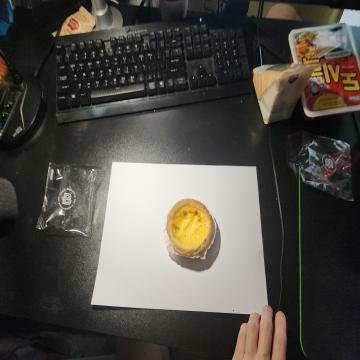EggTart: (166, 197, 214, 257)
